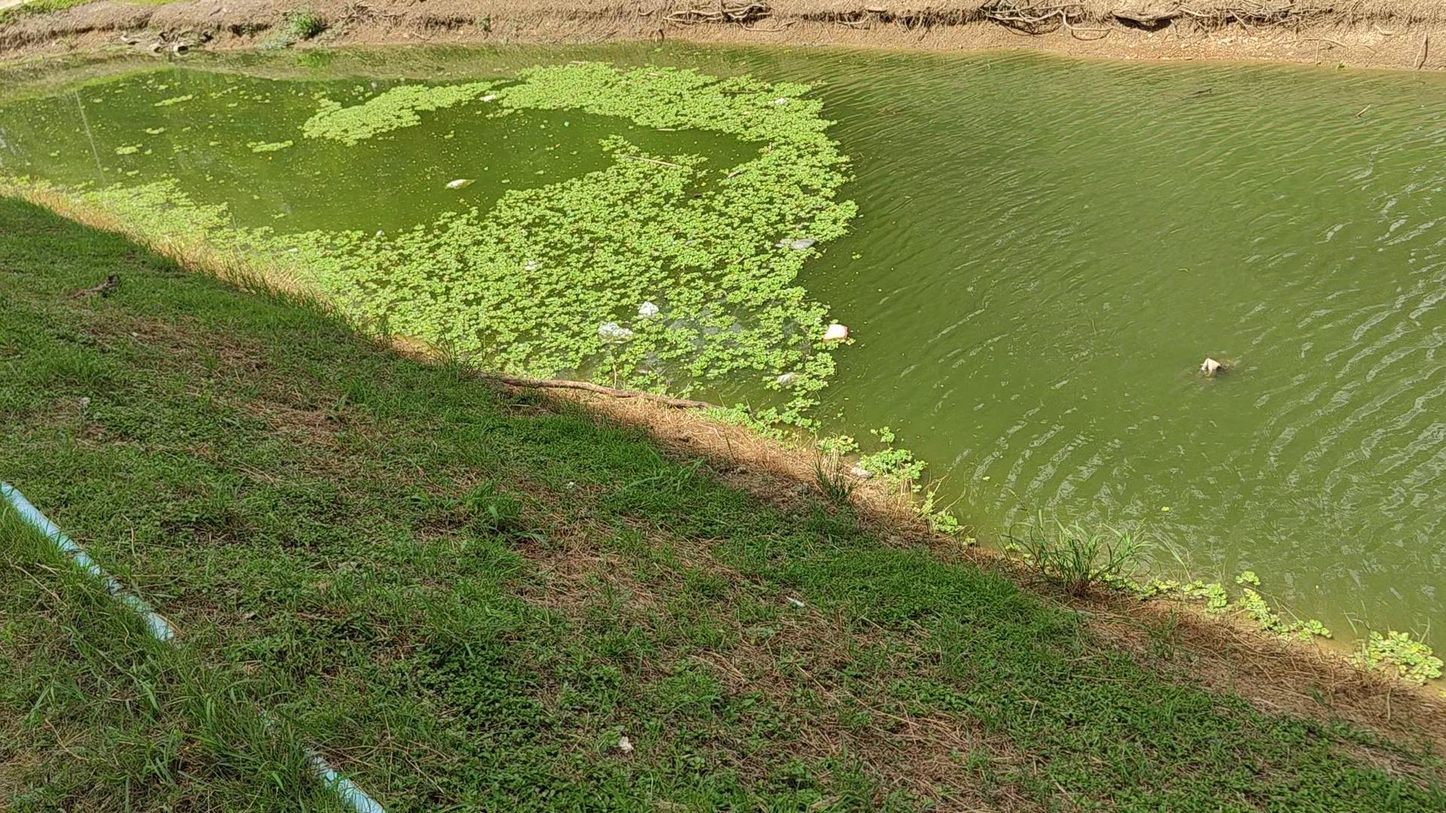trash: (599, 322, 633, 340), (822, 323, 849, 341), (1200, 357, 1223, 376), (447, 178, 474, 188), (639, 302, 658, 316), (777, 373, 799, 385), (791, 239, 816, 249), (770, 97, 790, 104), (482, 94, 496, 101), (526, 262, 537, 270)
